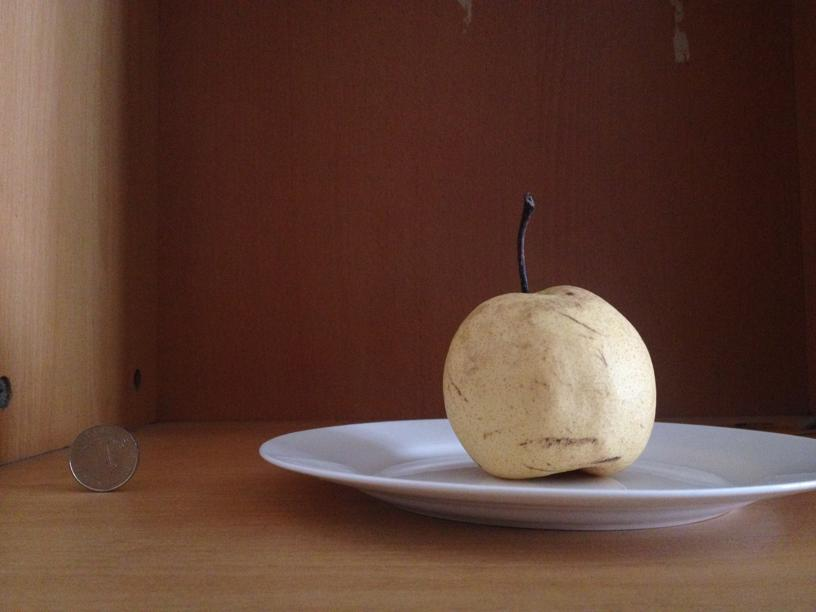coin: (64, 422, 140, 489)
pear: (437, 277, 658, 477)
